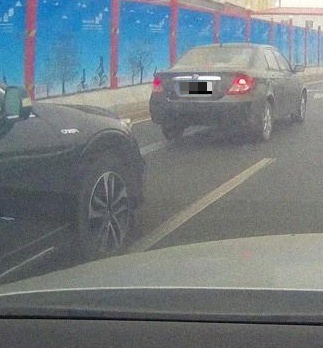L_light: (151, 77, 164, 93)
R_light: (227, 74, 254, 94)
T_light: (212, 48, 227, 51)
day-brake: (149, 42, 257, 143)
plate_1: (180, 82, 212, 94)
